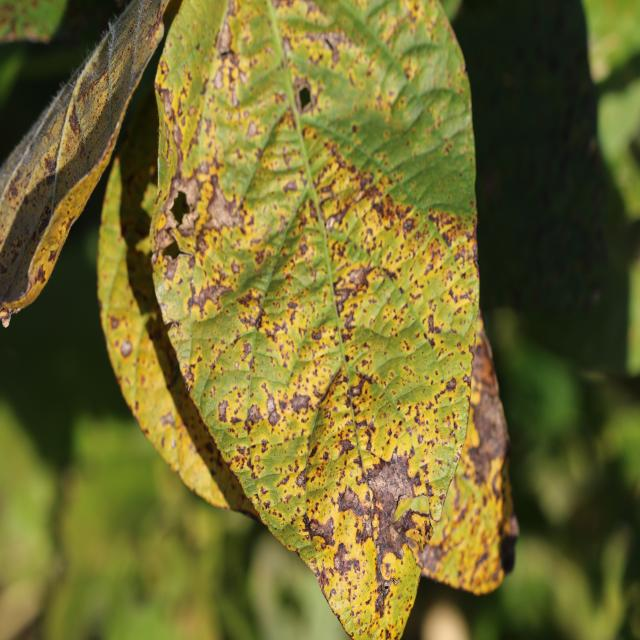Bacterial_Blight: (348, 457, 438, 561), (382, 12, 467, 114), (303, 138, 370, 223), (467, 352, 509, 485), (159, 168, 204, 249), (340, 246, 403, 300), (290, 26, 351, 73), (210, 53, 249, 105), (188, 277, 232, 317), (426, 207, 471, 245), (338, 485, 372, 524), (332, 539, 362, 577), (348, 372, 373, 400), (158, 83, 175, 123), (216, 19, 233, 54), (289, 392, 311, 414), (245, 403, 264, 427), (334, 437, 355, 458), (158, 409, 176, 429), (253, 305, 268, 329), (217, 399, 230, 422), (119, 338, 133, 358), (307, 559, 320, 580), (2, 27, 20, 42), (240, 340, 252, 361), (296, 468, 307, 487), (445, 376, 457, 393), (151, 246, 161, 266), (109, 314, 121, 330), (168, 319, 179, 332), (263, 500, 271, 510)
Soybean: (151, 0, 519, 640)
